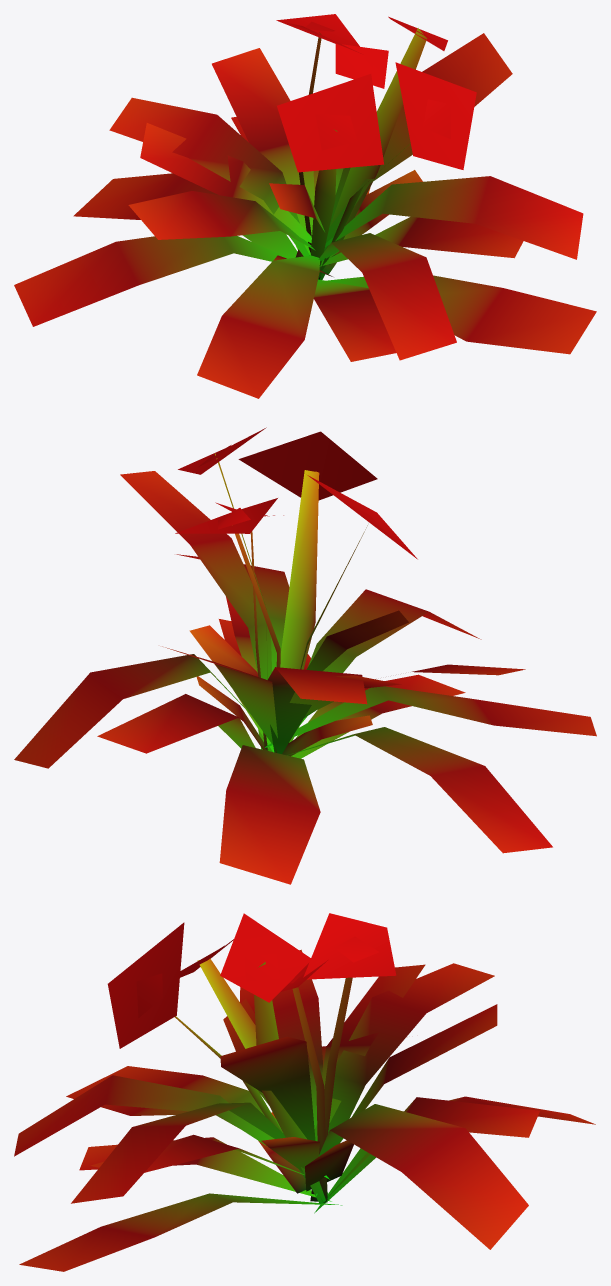
The model's file is Cape Weed_LOD3_Var2_tjmhfcyia.fbx.
The picture shows the model from 3 angles, top to bottom: view 1: azimuth 30°, elevation 25°; view 2: azimuth 150°, elevation 25°; view 3: azimuth 270°, elevation 25°; orthographic projection. The views are drawn at different scales.
Visible parts, largest first — view 1: _7e25_Var2_LOD3; view 2: _7e25_Var2_LOD3; view 3: _7e25_Var2_LOD3.
Part boxes in pixels (x1,y1,x2,y2): _7e25_Var2_LOD3: (14,14,596,398); _7e25_Var2_LOD3: (14,427,596,884); _7e25_Var2_LOD3: (14,913,595,1271).
Size of the model in its own units: 43.86 by 27.1 by 44.9.
